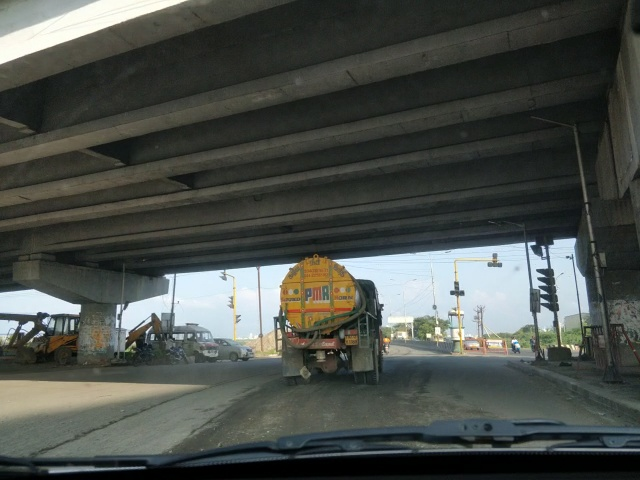auto: (383, 330, 395, 356)
car: (151, 324, 217, 362), (213, 336, 252, 361)
motorbike: (530, 329, 546, 353), (506, 332, 521, 354)
truck: (285, 255, 383, 386), (16, 308, 78, 363)
